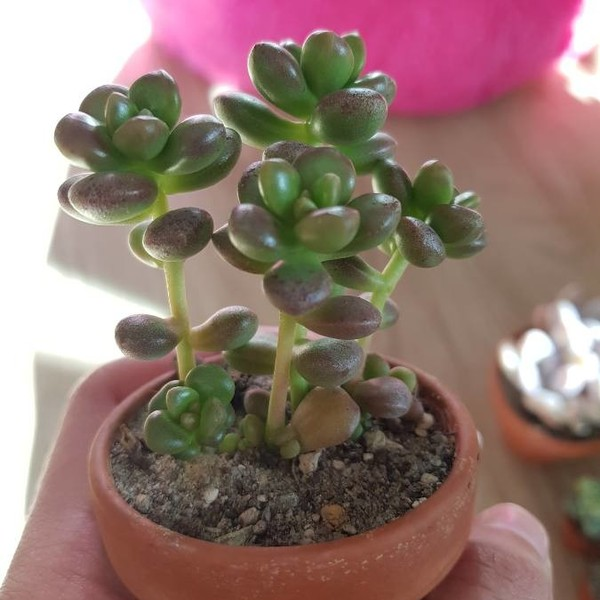obstacle: (23, 23, 504, 579)
